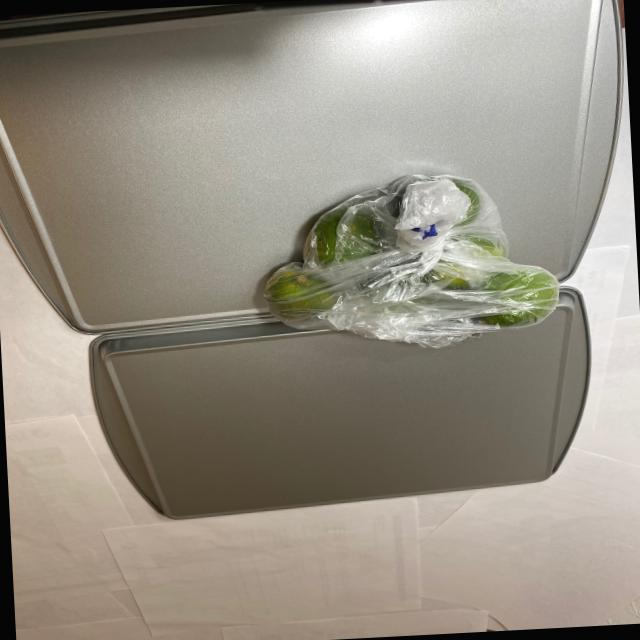lemon: (257, 171, 556, 338)
